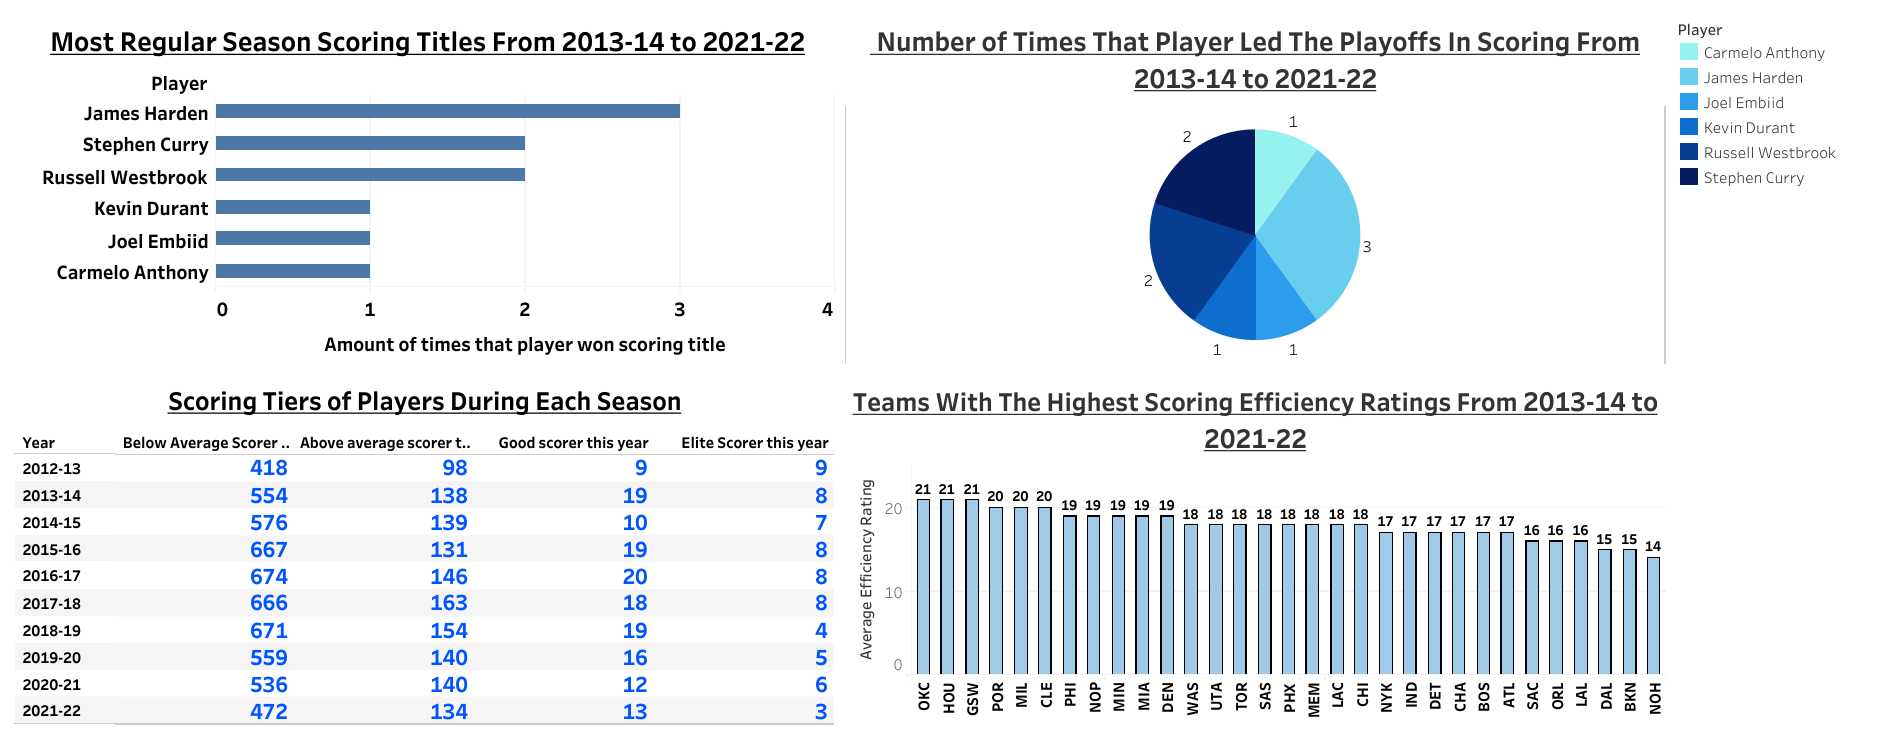

What the dashboard file says about the page in this screenshot:
{"tool":"tableau","page":{"name":"Dashboard 1","canvas":[1000,1000],"units":"permille","ordinal":0},"visuals":[{"type":"worksheet","title":"Sheet 1","mark":"Bar","rows":["Player"],"cols":["Amount of times that player won scoring title"],"box":[4.8,9.3,446.9,490.7]},{"type":"worksheet","title":"Sheet 2","mark":"Pie","box":[451.7,9.3,446.9,490.7]},{"type":"legend","title":"Sheet 2","param":"[federated.0f7mkv001gzym31aq0qzf1mgmxgx].[none:Player:nk]","box":[898.6,9.3,96.6,181.2]},{"type":"worksheet","title":"Sheet 3","mark":"Automatic","rows":["Year"],"cols":["Scoring tier"],"box":[4.8,500,446.9,490.7]},{"type":"worksheet","title":"Sheet 4","mark":"Bar","rows":["Average Efficiency Rating"],"cols":["Team Name"],"box":[451.7,500,446.9,490.7]}]}

Visuals, with their boxes on the dashboard's canvas, which has no fixed pixel size, in thousandths of its width and height (x1, y1, x2, y2). These are canvas units, not pixel positions in the 1880x739 screenshot, which may show the page scaled, cropped or inside an application window:
"Sheet 1" worksheet (Bar marks): BBox(5, 9, 452, 500)
"Sheet 2" worksheet (Pie marks): BBox(452, 9, 899, 500)
"Sheet 2" legend: BBox(899, 9, 995, 190)
"Sheet 3" worksheet: BBox(5, 500, 452, 991)
"Sheet 4" worksheet (Bar marks): BBox(452, 500, 899, 991)
